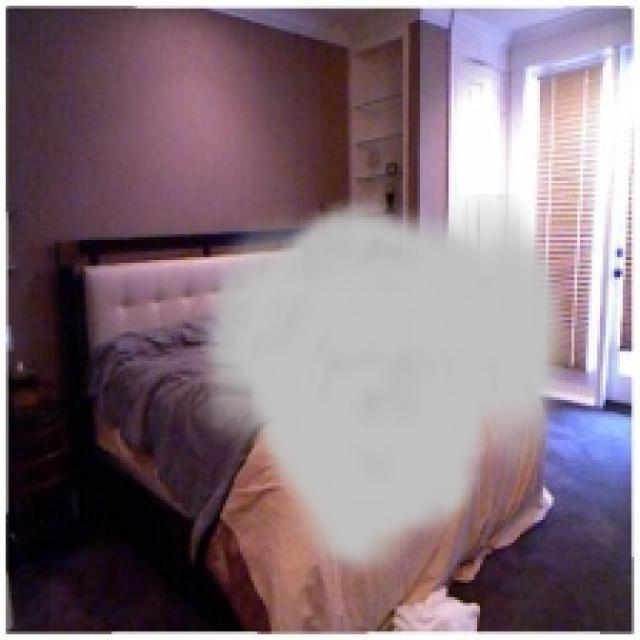smoke: (188, 194, 572, 580)
